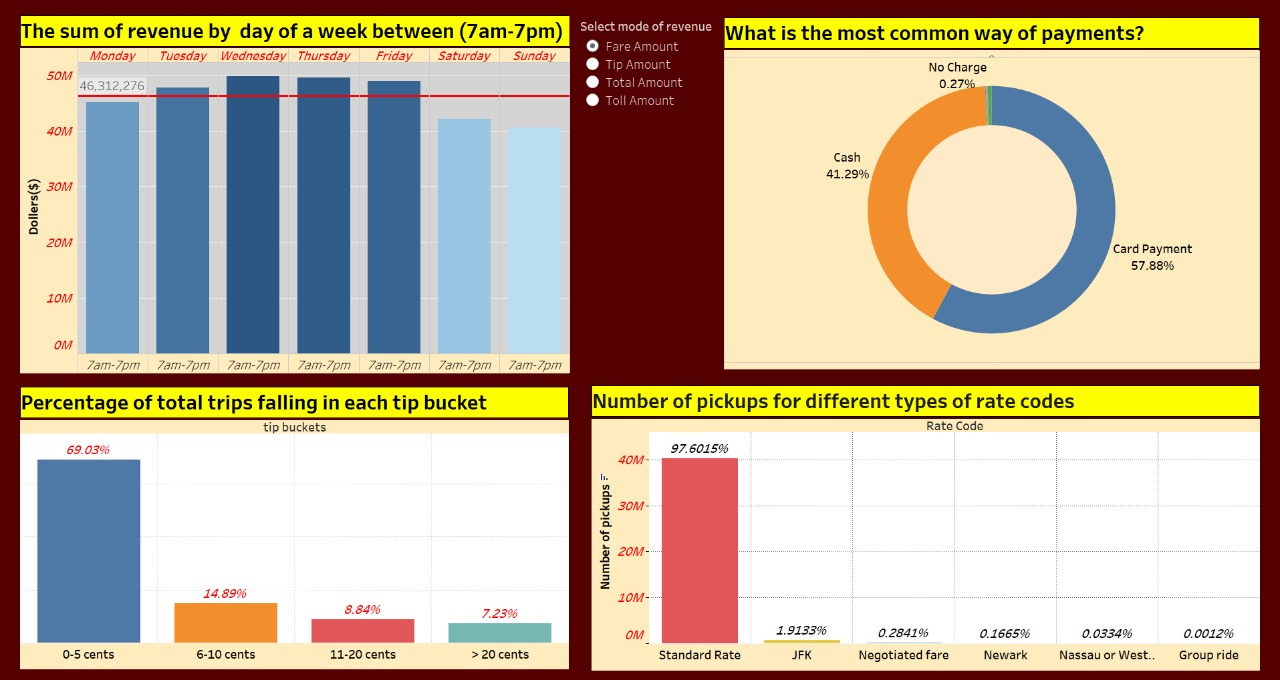

This screenshot's page, from the dashboard's own definition file:
{"tool":"tableau","page":{"name":"Dashboard 2","canvas":[1500,1400],"ordinal":1},"visuals":[{"type":"worksheet","box":[0,0,1500,1400]},{"type":"worksheet","param":"vert","box":[8,8,1484,1384]},{"type":"worksheet","box":[8,8,1484,1384]},{"type":"worksheet","title":"Sheet 11","mark":"Automatic","rows":["pickup_hour"],"cols":["pickup_day"],"param":"[federated.1llqlo6177bov81co22c71rz0lft].[cnt:fare_amount:qk]","box":[638,46,333,65]}]}

Visuals, with their boxes on the page's 1500x1400 design canvas (x1, y1, x2, y2). These are canvas units, not pixel positions in the 1280x680 screenshot, which may show the page scaled, cropped or inside an application window:
worksheet: 0,0,1500,1400
worksheet: 8,8,1492,1392
worksheet: 8,8,1492,1392
"Sheet 11" worksheet: 638,46,971,111
